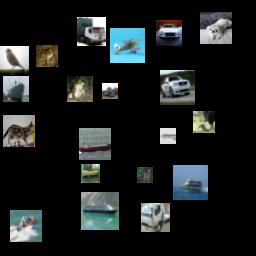airplane: (110, 28, 145, 63), (160, 128, 176, 144)
automobile: (160, 70, 195, 105), (156, 20, 182, 46), (81, 164, 100, 183)
bird: (0, 46, 29, 75), (193, 111, 215, 133)
cat: (3, 115, 35, 147)
deer: (137, 167, 153, 183)
dog: (200, 12, 232, 44)
frog: (67, 76, 93, 102), (36, 45, 58, 67)
ship: (81, 192, 119, 230), (173, 165, 208, 200), (79, 128, 111, 160), (10, 210, 42, 242), (3, 76, 29, 102)
truck: (141, 203, 170, 232), (77, 17, 106, 46), (102, 83, 118, 99)
